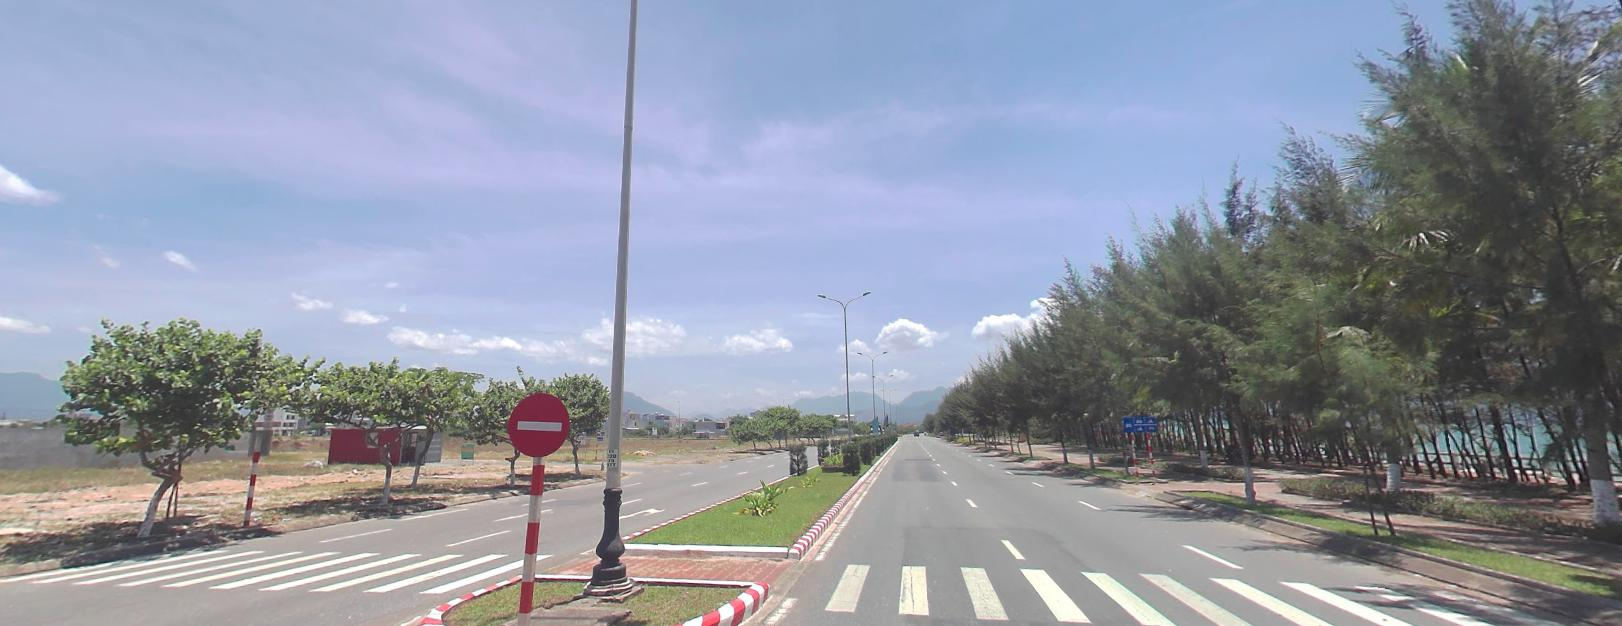Cam nguoc chieu: (508, 391, 570, 455)
